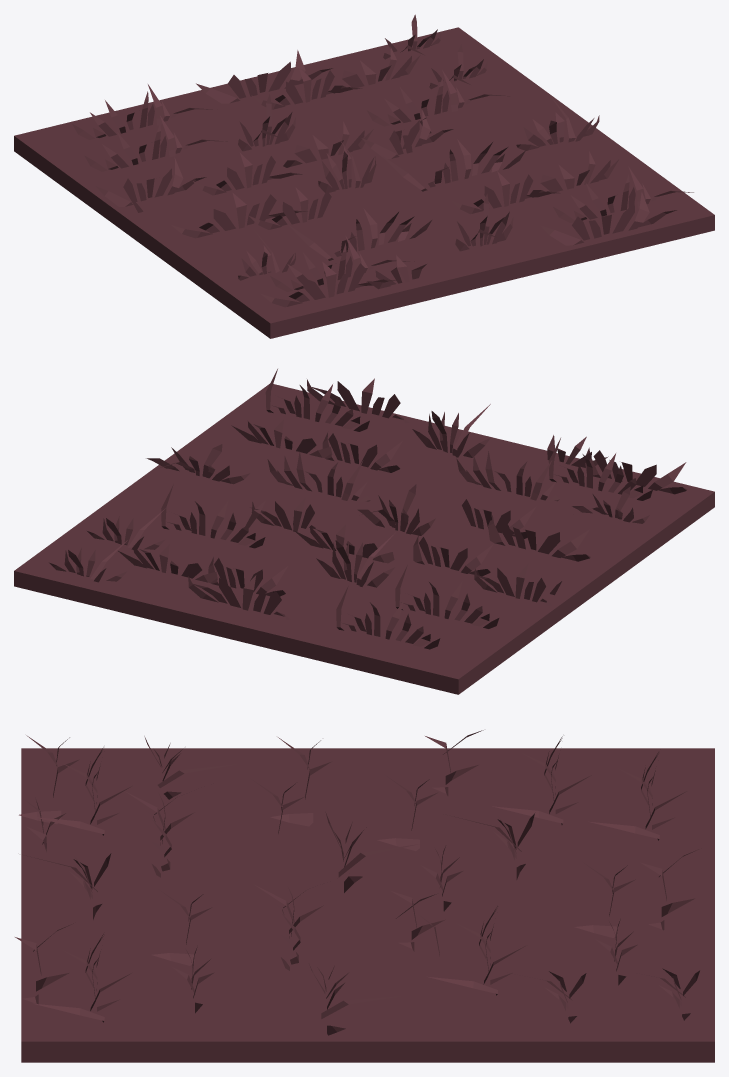
File: floor-nature-grass-3x3m.fbx
The picture shows the model from 3 angles, top to bottom: view 1: azimuth 30°, elevation 25°; view 2: azimuth 150°, elevation 25°; view 3: azimuth 270°, elevation 25°; orthographic projection. The views are drawn at different scales.
Parts seen in each view (by area): view 1: floor-nature-grass-3x3m; view 2: floor-nature-grass-3x3m; view 3: floor-nature-grass-3x3m.
Boxes of the visible parts, x1,y1,x2,y2 form: floor-nature-grass-3x3m: (14,14,714,338); floor-nature-grass-3x3m: (14,369,714,694); floor-nature-grass-3x3m: (15,730,714,1062).
Size of the model in its own units: 3.06 by 0.3884 by 3.03.
